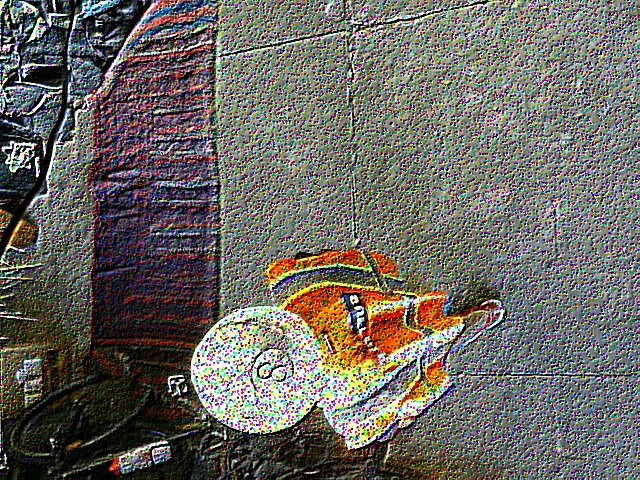eight: (250, 348, 296, 398)
